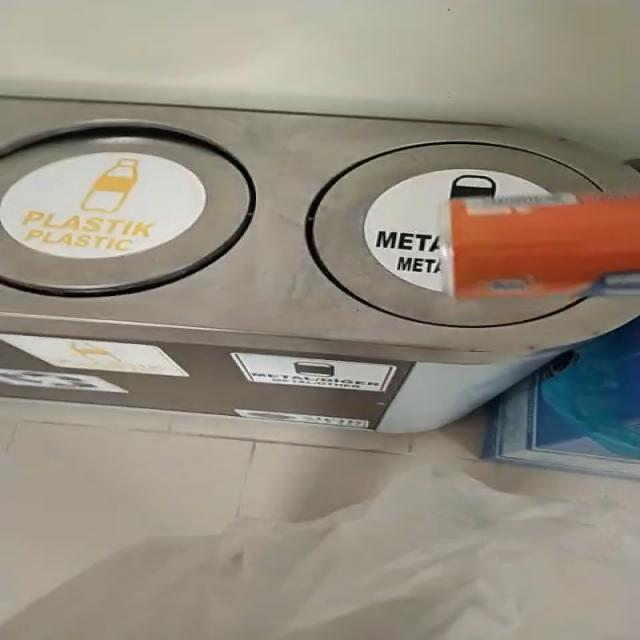Bin: (1, 99, 640, 431)
Metal: (451, 193, 640, 299)
